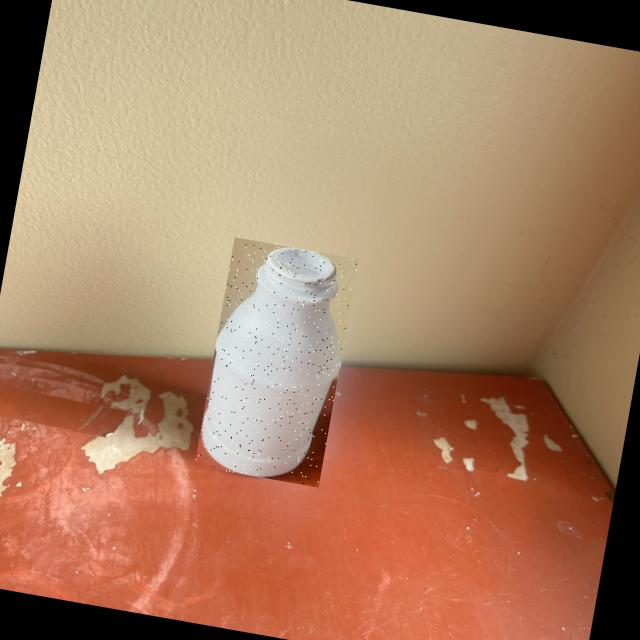HDPE_Bottle: (202, 248, 338, 476)
